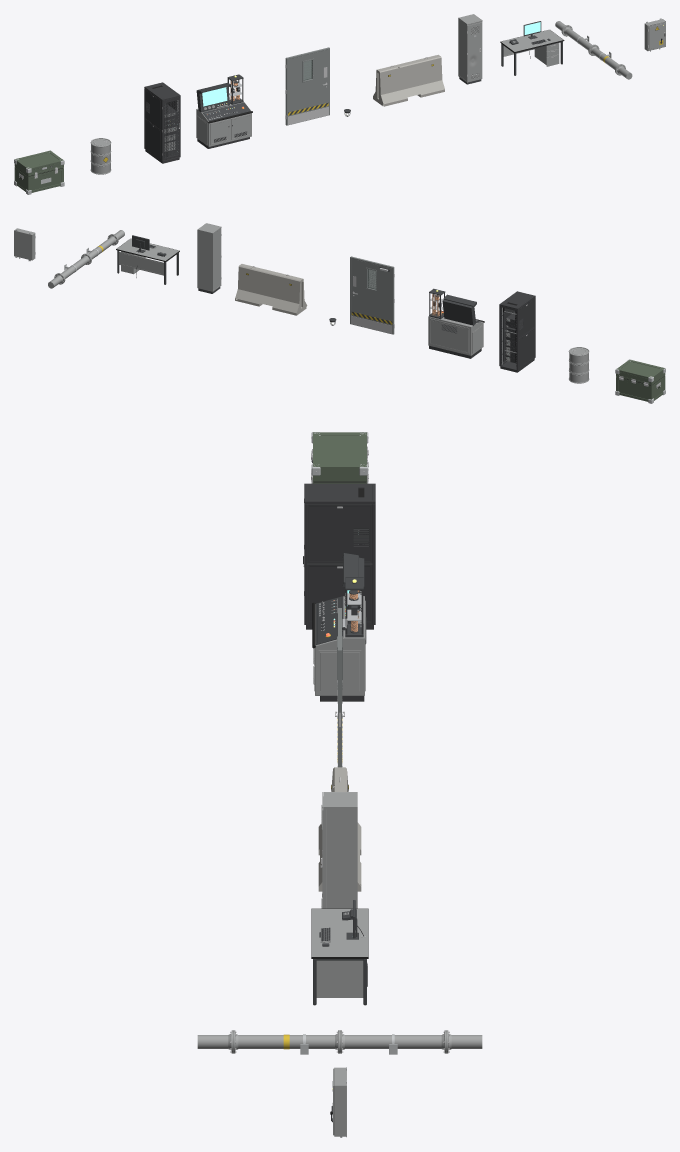
The model's file is props.glb.
The picture shows the model from 3 angles, top to bottom: view 1: azimuth 30°, elevation 25°; view 2: azimuth 150°, elevation 25°; view 3: azimuth 270°, elevation 25°; orthographic projection. The views are drawn at different scales.
Parts seen in each view (by area): view 1: door_slab_body, relay_console_body, server_rack_body, barrier_body, crate_body, locker_body, desk_body, pipe_body, barrel_body, breaker_body, screen; view 2: door_slab_body, relay_console_body, server_rack_body, barrier_body, desk_body, crate_body, locker_body, pipe_body, barrel_body, breaker_body; view 3: server_rack_body, relay_console_body, desk_body, pipe_body, locker_body, crate_body, breaker_body, barrier_body.
Boxes of the visible parts, box(x1,y1,x2,y2) form: door_slab_body: box(285, 47, 329, 125); relay_console_body: box(196, 74, 252, 148); server_rack_body: box(144, 82, 180, 163); barrier_body: box(373, 54, 444, 106); crate_body: box(14, 150, 64, 194); locker_body: box(458, 14, 482, 84); desk_body: box(500, 21, 564, 75); pipe_body: box(555, 21, 632, 79); barrel_body: box(90, 138, 111, 174); breaker_body: box(644, 18, 665, 51); screen: box(202, 87, 227, 106); door_slab_body: box(350, 256, 394, 334); relay_console_body: box(428, 288, 484, 358); server_rack_body: box(499, 291, 535, 372); barrier_body: box(235, 264, 307, 315); desk_body: box(116, 235, 179, 284); crate_body: box(615, 359, 665, 403); locker_body: box(197, 223, 221, 293); pipe_body: box(48, 230, 124, 288); barrel_body: box(568, 347, 589, 383); breaker_body: box(14, 228, 35, 261); server_rack_body: box(303, 483, 375, 629); relay_console_body: box(312, 553, 366, 701); desk_body: box(311, 900, 368, 1005); pipe_body: box(197, 1030, 482, 1054); locker_body: box(320, 792, 357, 908); crate_body: box(311, 432, 368, 483); breaker_body: box(330, 1067, 346, 1137); barrier_body: box(318, 767, 361, 891).
Bounding box in the file's own units: 20.9 × 2.56 × 4.
